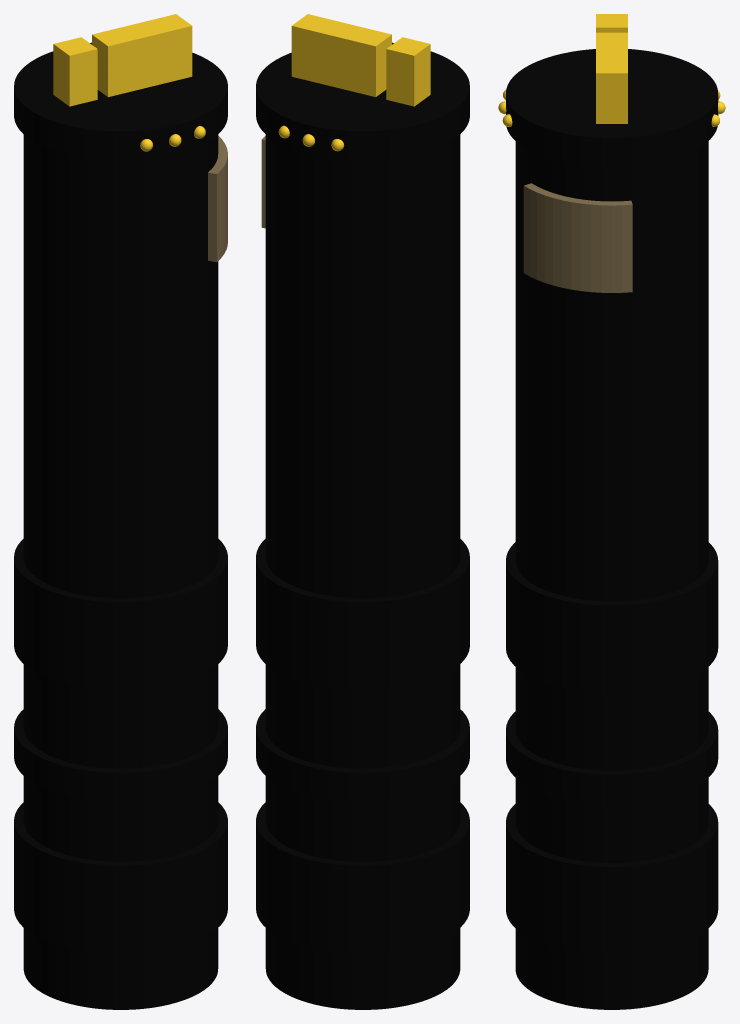
File: Credstick basic.fbx
3 views of the same model, side by side, from view 1: azimuth 30°, elevation 25°; view 2: azimuth 150°, elevation 25°; view 3: azimuth 270°, elevation 25° (orthographic).
Parts seen in each view (by area): view 1: Cylinder.003, Cylinder.004, Cylinder.002, Cylinder, Cylinder.005, Cube, Cube.001, Cylinder.001; view 2: Cylinder.003, Cylinder.004, Cylinder.002, Cylinder, Cylinder.005, Cube, Cube.001; view 3: Cylinder.003, Cylinder.002, Cylinder.004, Cylinder, Cylinder.001, Cylinder.005, Cube, Cube.001.
Boxes of the visible parts, x1=… form: Cylinder.003: x1=23, y1=134, x2=218, y2=1009; Cylinder.004: x1=14, y1=539, x2=227, y2=690; Cylinder.002: x1=14, y1=802, x2=227, y2=954; Cylinder: x1=14, y1=42, x2=227, y2=160; Cylinder.005: x1=14, y1=709, x2=227, y2=802; Cube: x1=92, y1=14, x2=192, y2=96; Cube.001: x1=53, y1=37, x2=97, y2=106; Cylinder.001: x1=208, y1=136, x2=227, y2=262; Cylinder.003: x1=265, y1=134, x2=460, y2=1009; Cylinder.004: x1=256, y1=539, x2=469, y2=690; Cylinder.002: x1=256, y1=802, x2=469, y2=954; Cylinder: x1=256, y1=42, x2=469, y2=160; Cylinder.005: x1=256, y1=709, x2=469, y2=802; Cube: x1=291, y1=14, x2=391, y2=96; Cube.001: x1=386, y1=37, x2=430, y2=106; Cylinder.003: x1=515, y1=141, x2=708, y2=1009; Cylinder.002: x1=506, y1=804, x2=718, y2=954; Cylinder.004: x1=506, y1=542, x2=718, y2=692; Cylinder: x1=506, y1=49, x2=718, y2=167; Cylinder.001: x1=523, y1=183, x2=632, y2=292; Cylinder.005: x1=506, y1=711, x2=718, y2=803; Cube: x1=596, y1=32, x2=627, y2=123; Cube.001: x1=596, y1=14, x2=627, y2=32.
Size of the model in its own units: 3.3 by 15.88 by 3.53.
